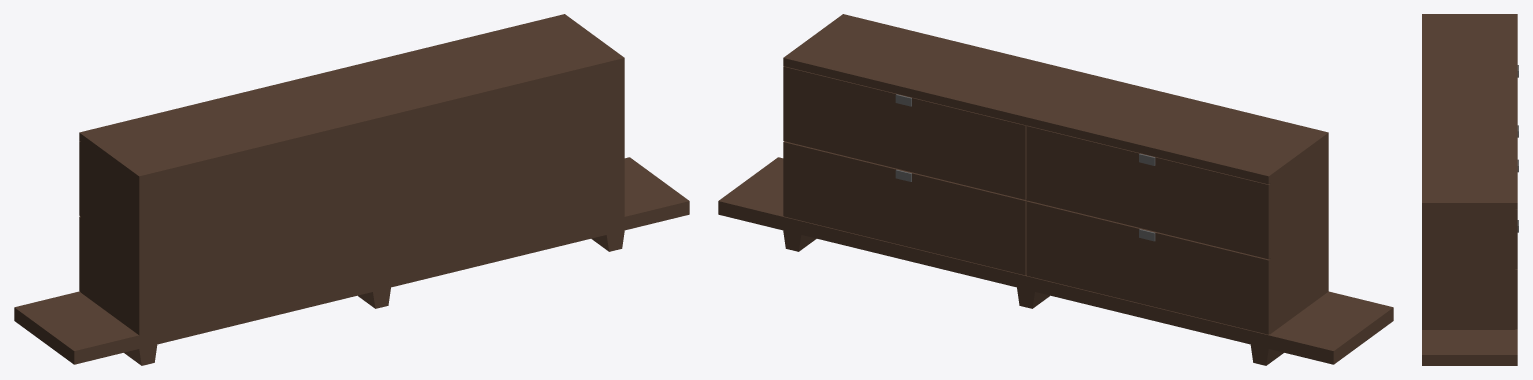
3 renders of one model, left to right at view 1: azimuth 30°, elevation 25°; view 2: azimuth 150°, elevation 25°; view 3: azimuth 270°, elevation 25°, orthographic. The views are drawn at different scales.
Visible parts, largest first — view 1: mesh18_mesh18-geometry, mesh20_mesh20-geometry, mesh16_mesh16-geometry; view 2: mesh18_mesh18-geometry, mesh20_mesh20-geometry, mesh16_mesh16-geometry; view 3: mesh20_mesh20-geometry, mesh18_mesh18-geometry, mesh16_mesh16-geometry.
Part boxes in pixels (x1,y1,x2,y2): mesh18_mesh18-geometry: [79, 66, 624, 335]; mesh20_mesh20-geometry: [79, 14, 624, 184]; mesh16_mesh16-geometry: [14, 157, 689, 364]; mesh18_mesh18-geometry: [783, 66, 1328, 334]; mesh20_mesh20-geometry: [783, 14, 1328, 184]; mesh16_mesh16-geometry: [718, 157, 1393, 364]; mesh20_mesh20-geometry: [1422, 14, 1517, 209]; mesh18_mesh18-geometry: [1422, 209, 1517, 329]; mesh16_mesh16-geometry: [1422, 329, 1517, 365].
Size of the model in its own units: 0.9464 by 0.2795 by 0.1617.
